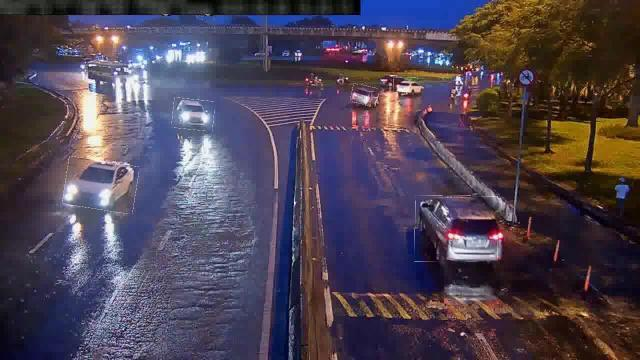Car: (414, 195, 498, 262), (64, 160, 138, 212), (173, 98, 215, 130), (350, 84, 378, 106), (394, 77, 424, 93)
